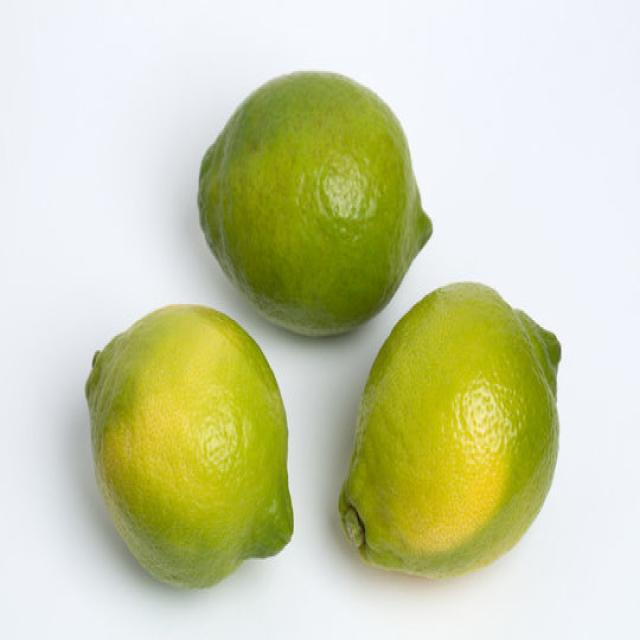Lemon: (337, 279, 560, 580), (195, 68, 432, 338), (84, 301, 294, 588)
